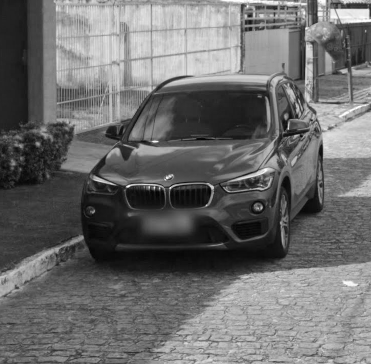car: (79, 72, 327, 264)
